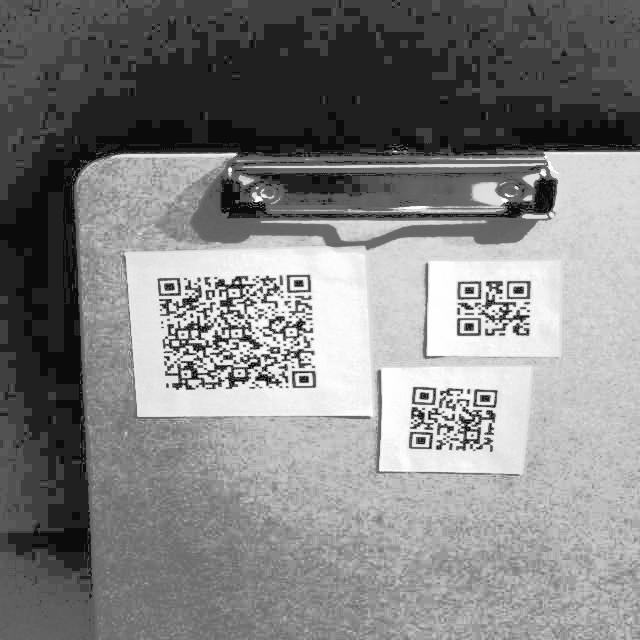qr_code: (145, 260, 331, 399), (396, 373, 507, 463), (441, 268, 545, 346)
